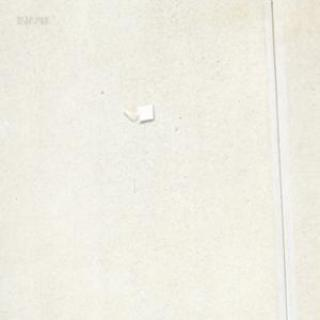LuggageTagtrack_idkeyframe: (118, 102, 154, 122)
